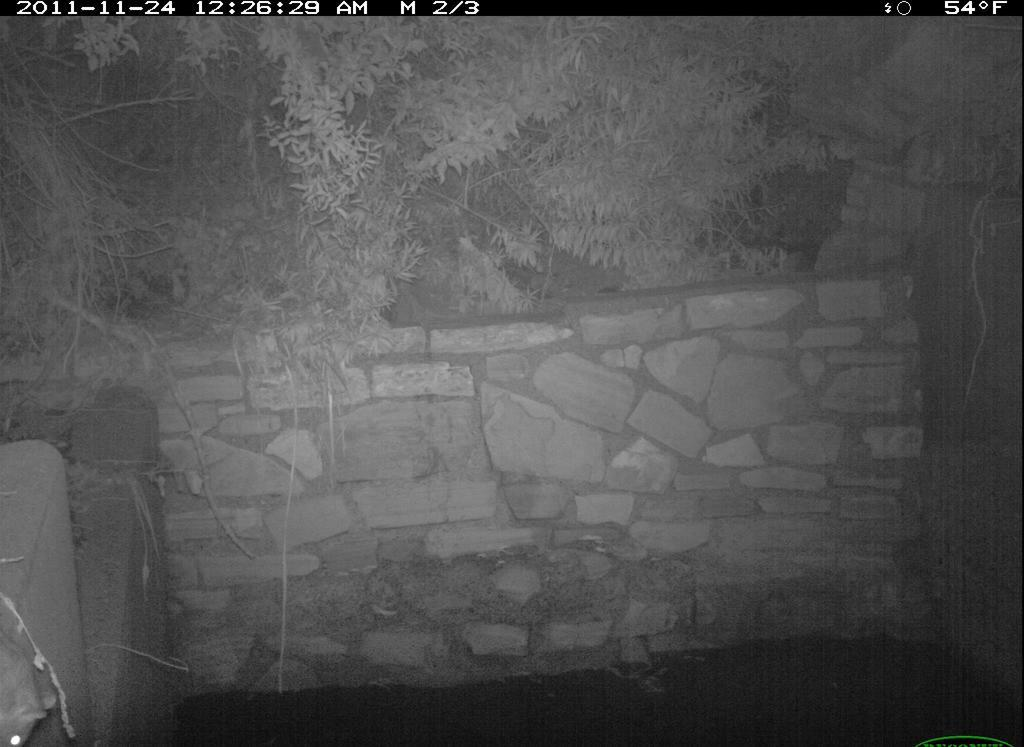rodent: (1, 614, 56, 747)
